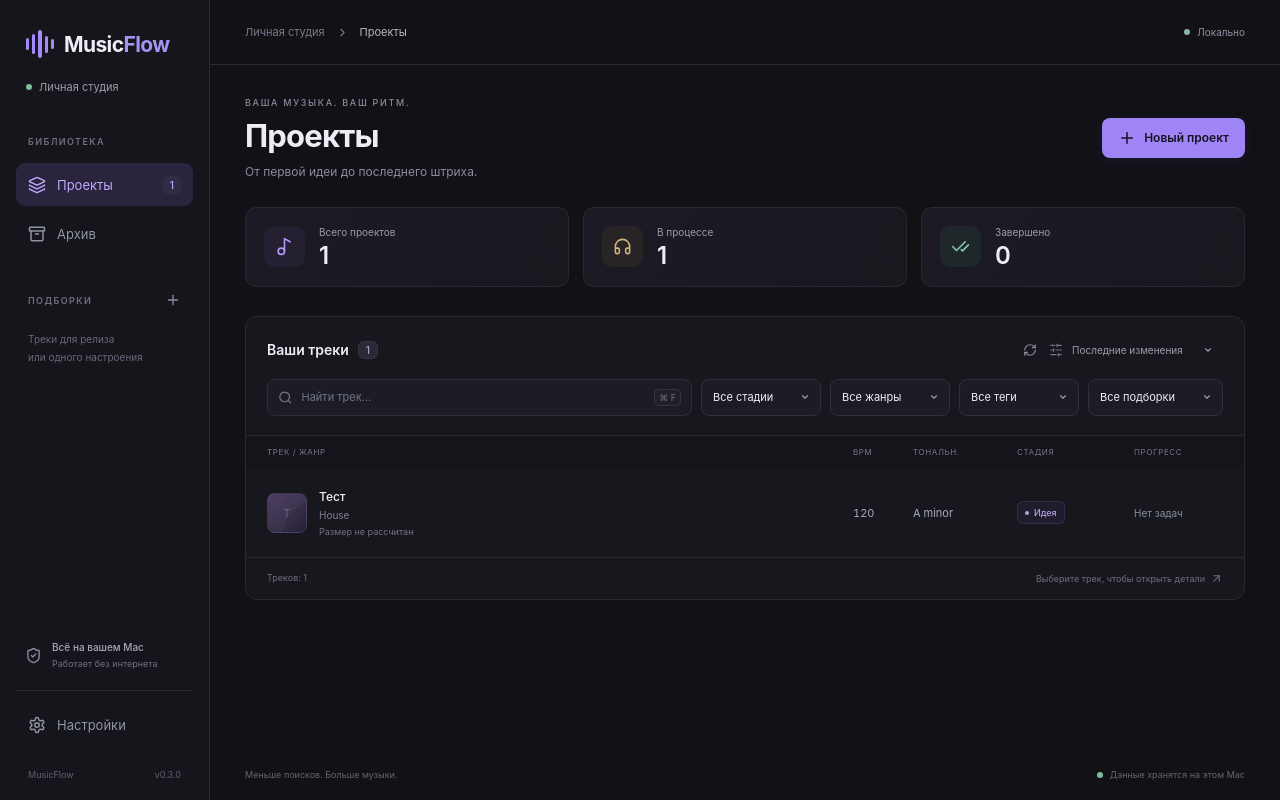
Scenario: MusicFlow interaction › protects unsaved edits and saves a manual stage independently of tasks
Click the button with aria-label "Открыть проект: Тест" at (287, 513), box [246,469,1244,557]
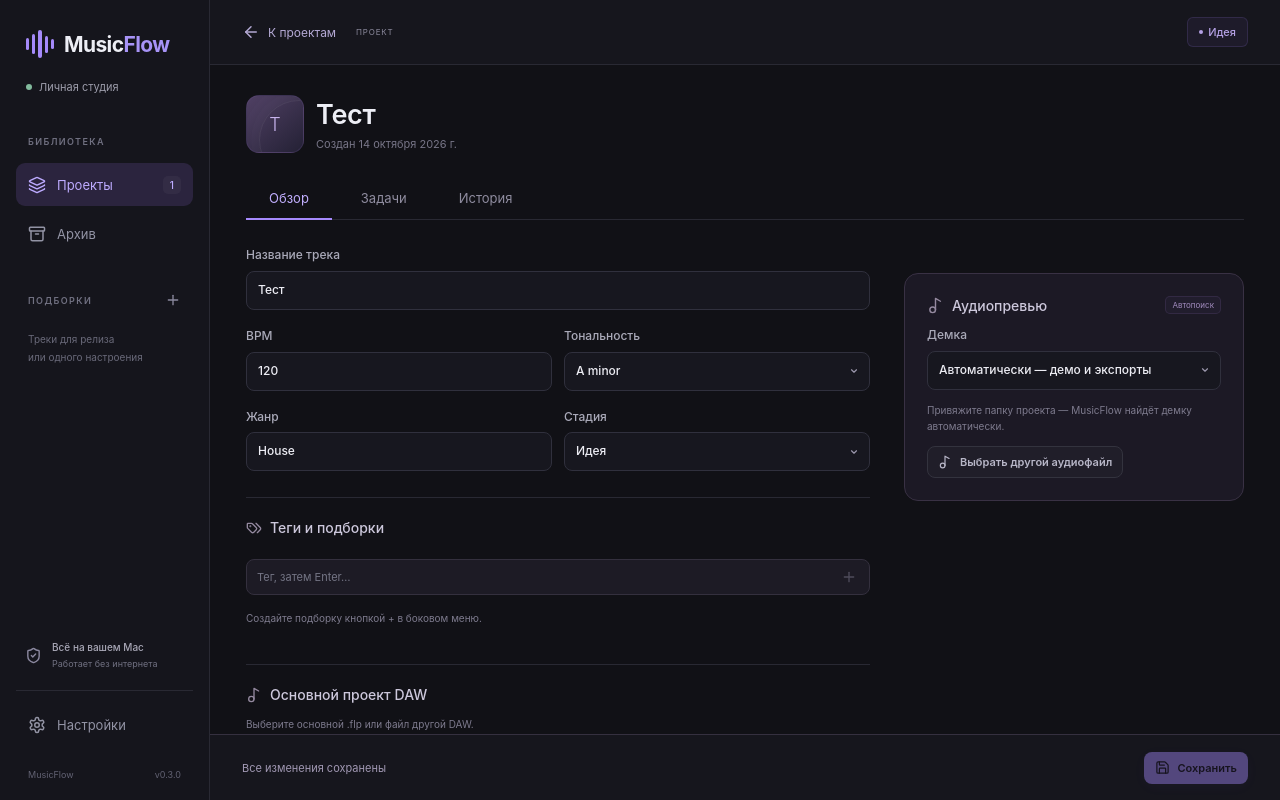
Replace the text in the field labelled "Название трека" with "Изменённый" at (558, 290), box [246,271,870,310]
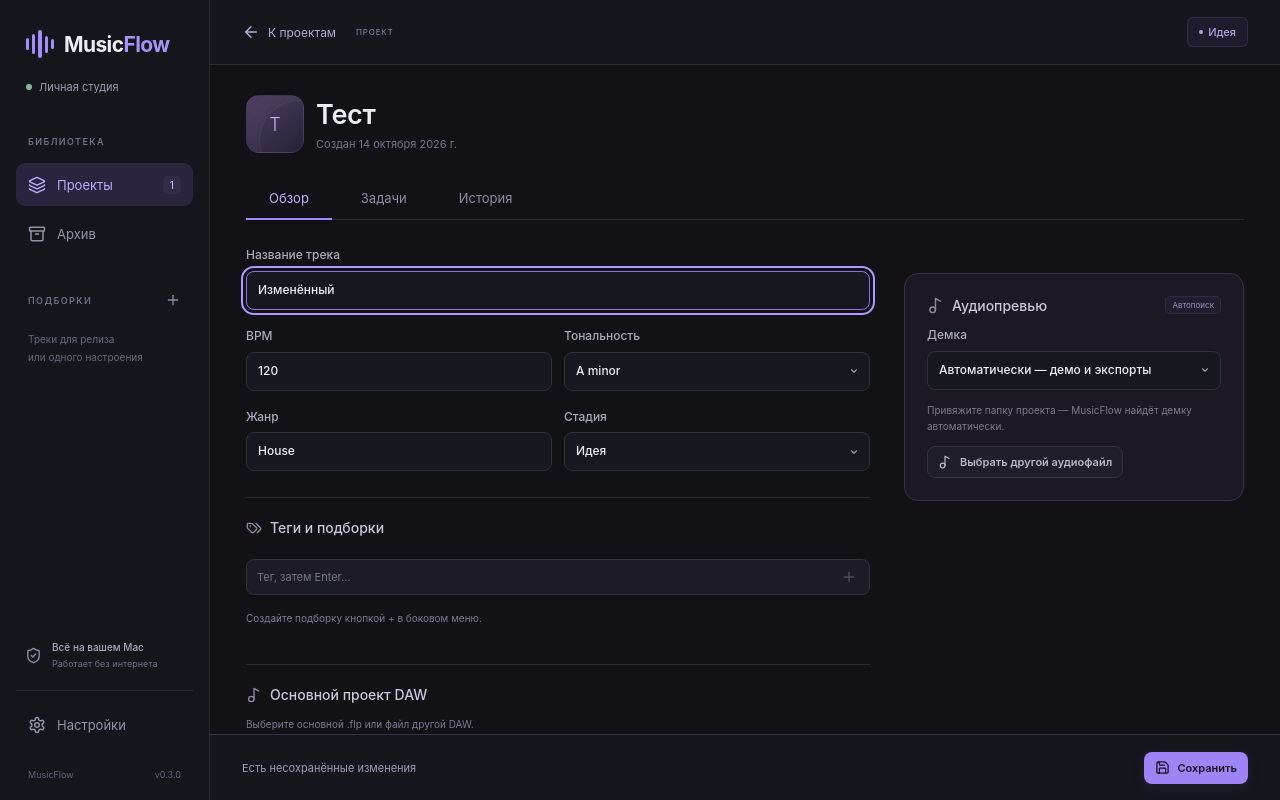
Click the button with aria-label "Назад к проектам" at (289, 32), box [242,18,336,46]
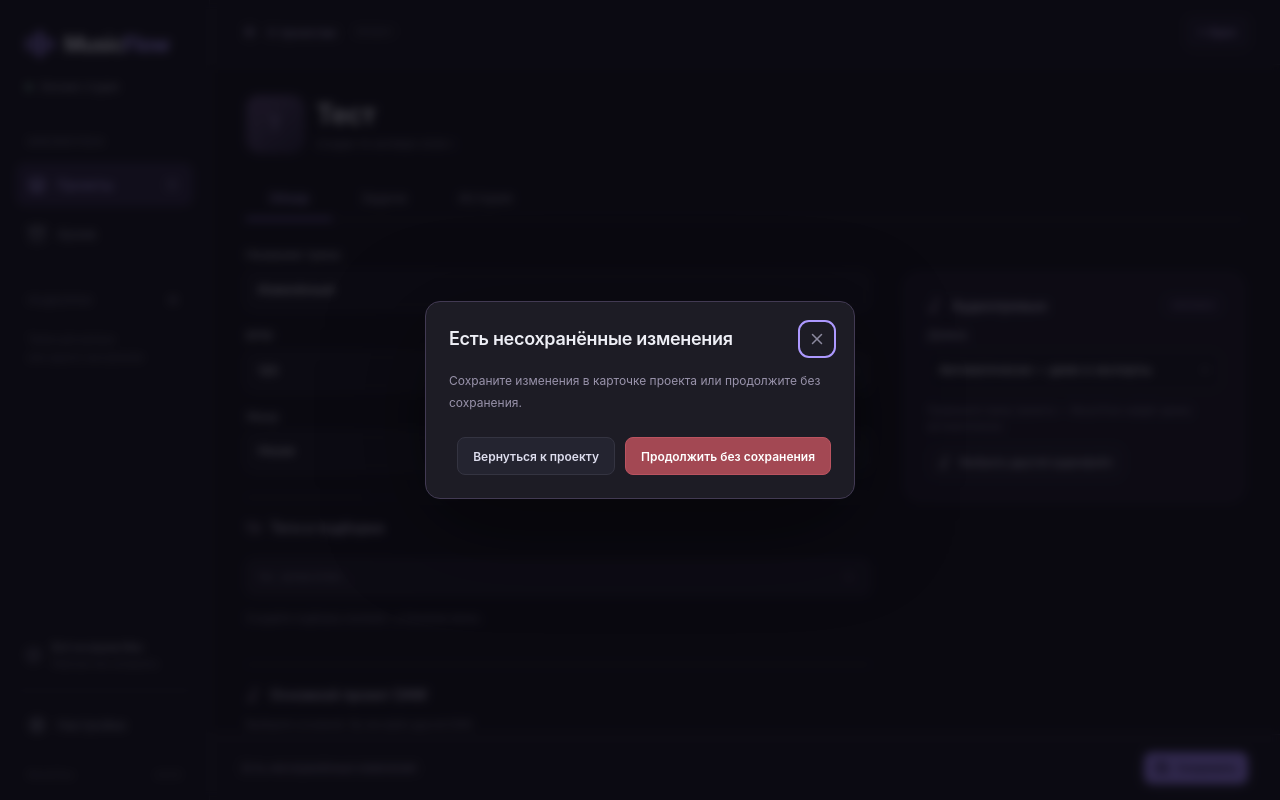
expect the dialog "Есть несохранённые изменения" is shown: met, box [425,301,855,499]
Click the button "Вернуться к проекту" at (536, 456), box [457,437,615,475]
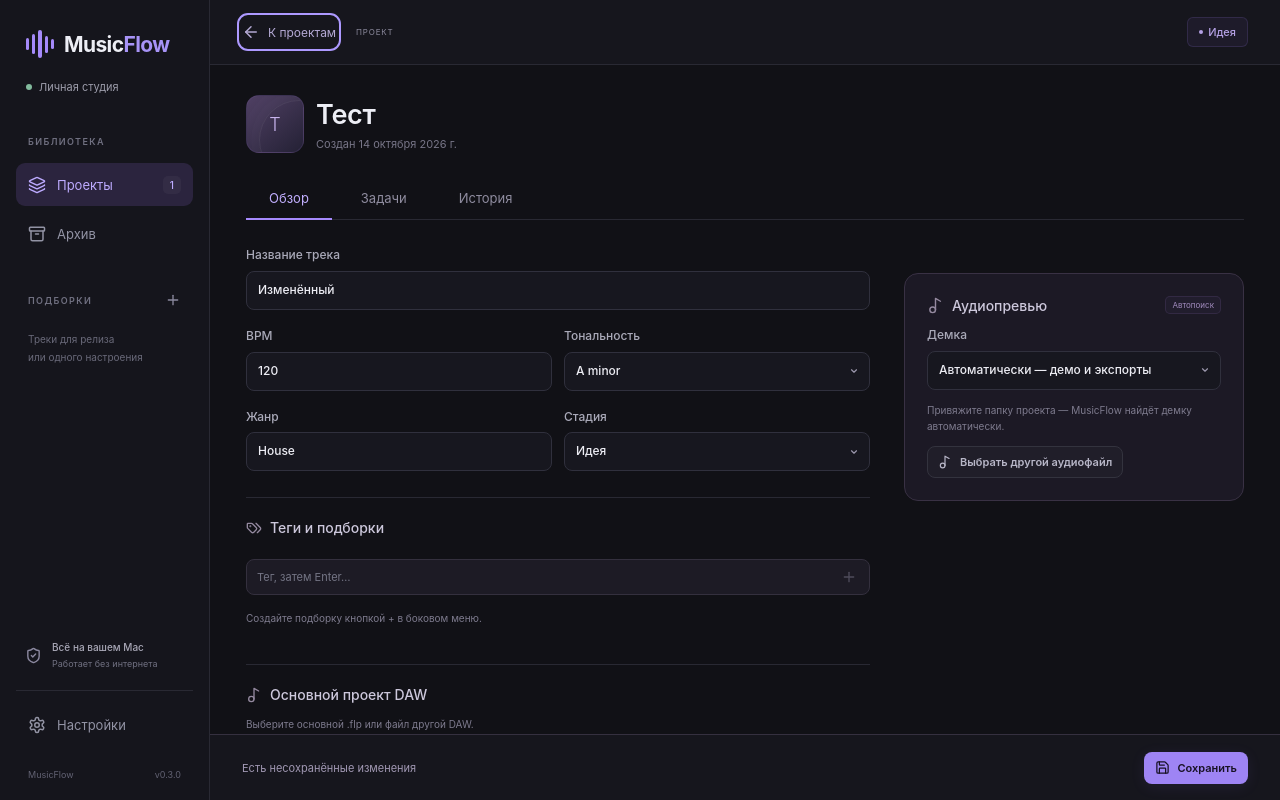
Select "Завершён" in the dropdown labelled "Стадия" at (717, 452), box [564,432,870,471]
Click the button "Сохранить" at (1196, 768), box [1144,752,1248,784]
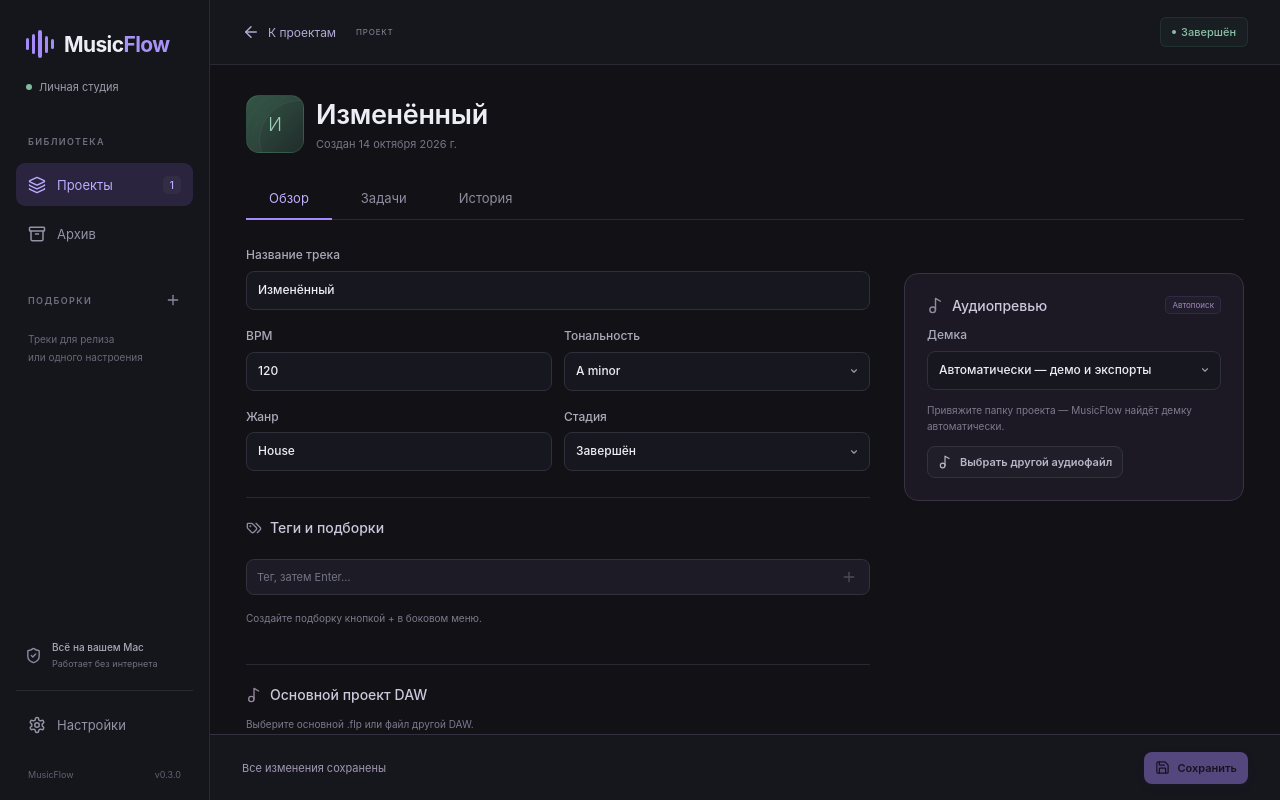
expect the heading "Изменённый" is shown: met, box [316,98,488,130]
Click the button with aria-label "Назад к проектам" at (289, 32), box [242,18,336,46]
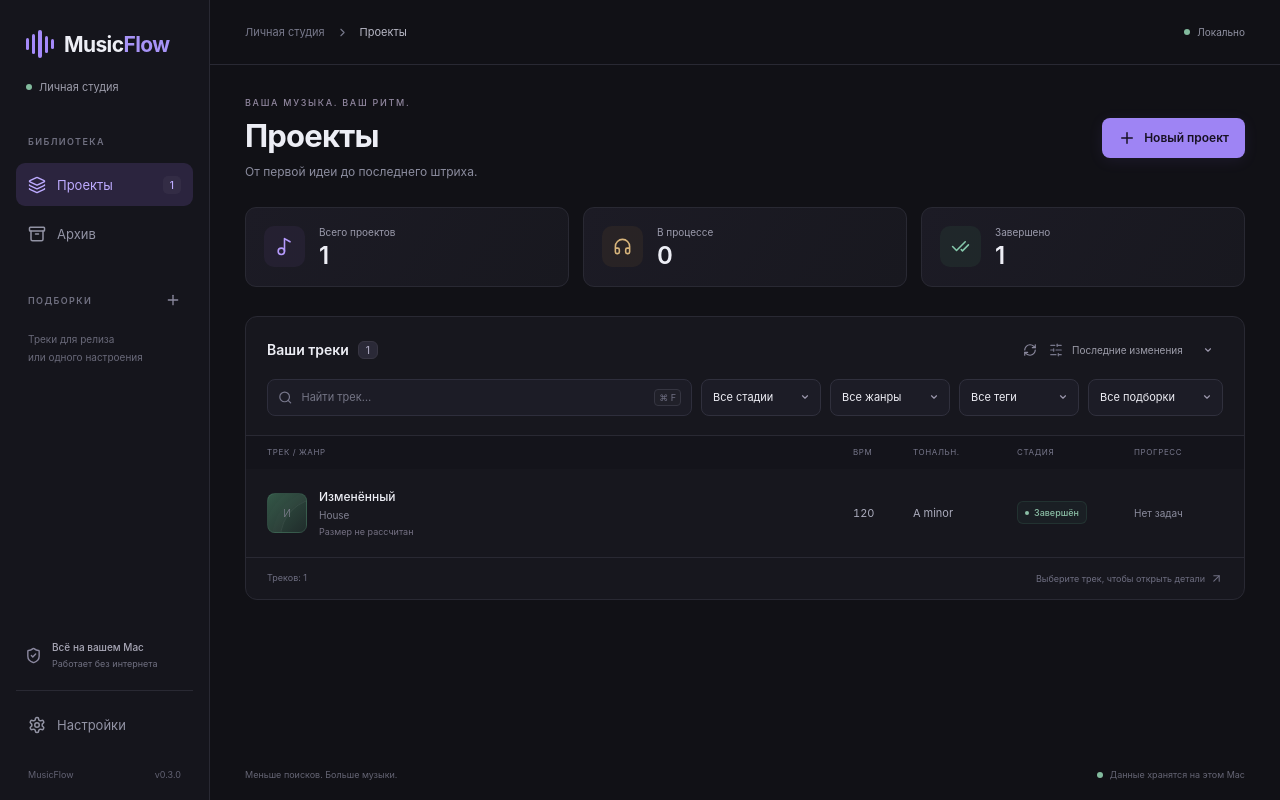
expect the button with aria-label "Открыть проект: Изменённый" is shown: met, box [246,469,1244,557]
